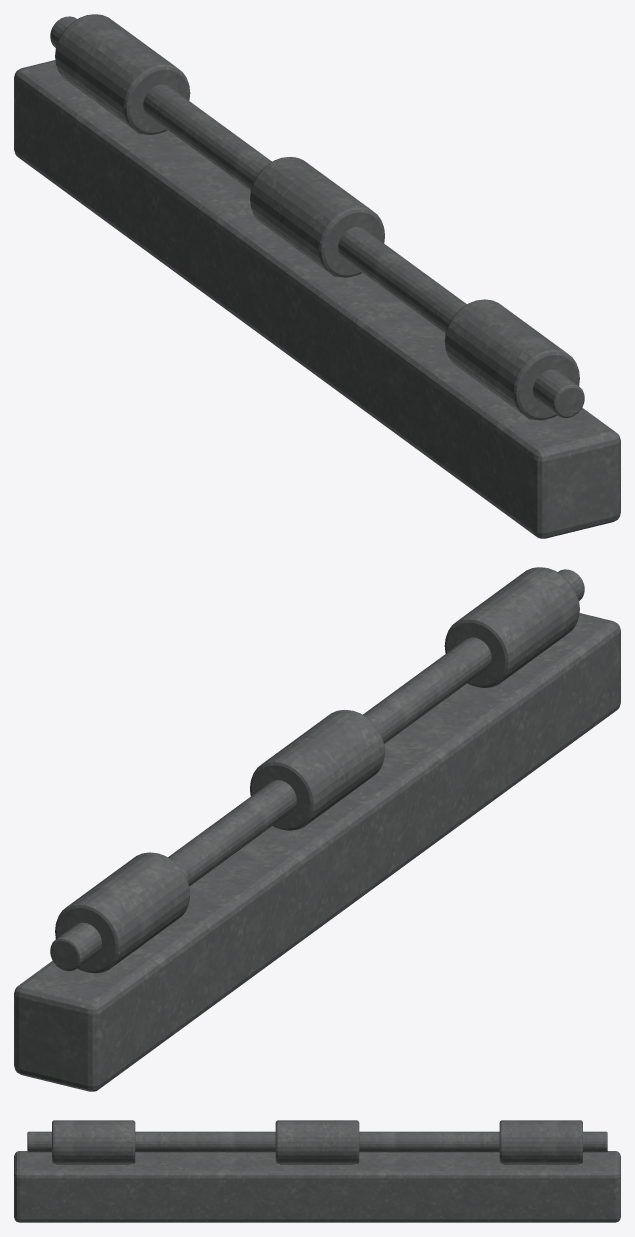
File: flap_post_vis.obj
3 views of the same model, one above another, from view 1: azimuth 30°, elevation 25°; view 2: azimuth 150°, elevation 25°; view 3: azimuth 270°, elevation 25° (orthographic). The views are drawn at different scales.
Size of the model in its own units: 0.03 by 0.0525 by 0.32.
Materials: 1 (1 with a texture image).
